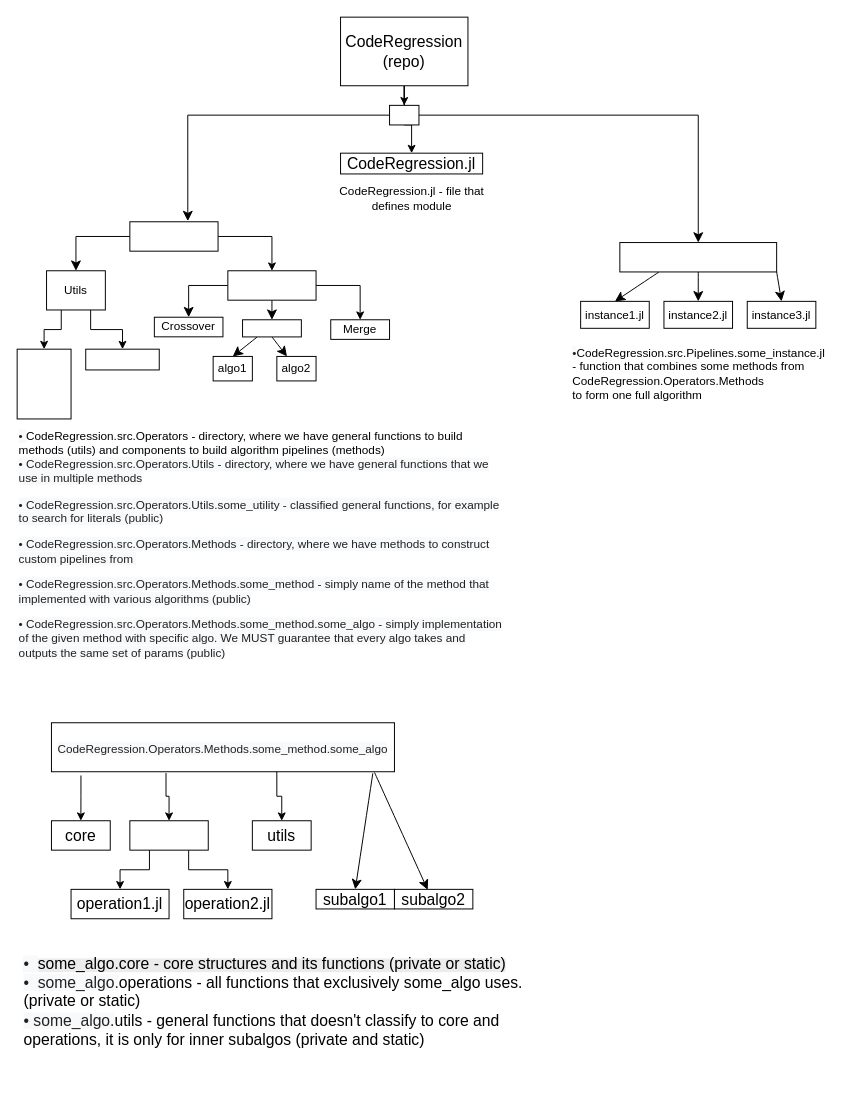
Image size: 843x1100. Some labels were removed from this diagram. The centre of each missing label's shape, as x and y in pixels:
"expressions.jl" goes at pixel 122 359.
"Methods" goes at pixel 271 285.
"Mutation" goes at pixel 271 328.
"operations" goes at pixel 168 835.
"Operators" goes at pixel 173 236.
"Pipelines" goes at pixel 698 257.
"some other utilty like literal.jl" goes at pixel 43 383.
"src" goes at pixel 404 114.
